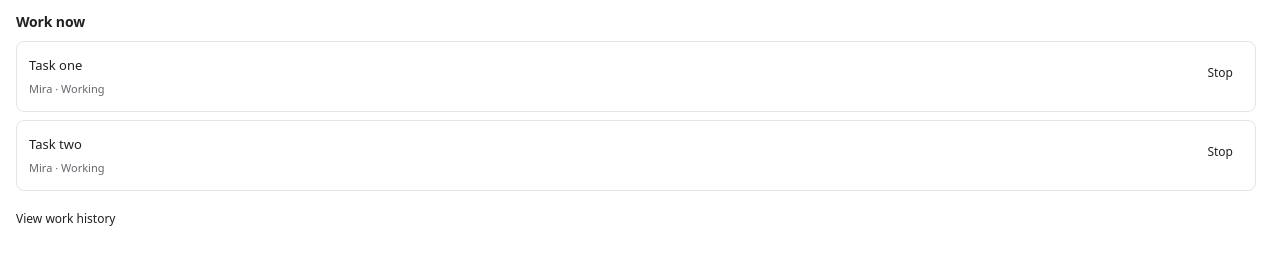
Scenario: bounded Activity summary › stops only the selected assignment and reports a rejected Stop
What coordinates should you click on to do the following:
click the 2nd button "Stop"
I would click on:
 (1220, 151)
Its box is [1197,135,1243,167].
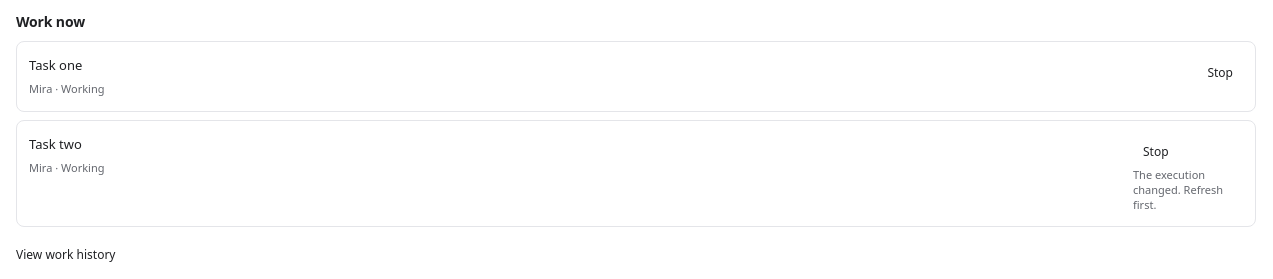
Expected: the number of buttons "Stop" is 2, [1197,56,1243,88]; [1133,135,1179,167]
Expected: the message shows "The execution changed", [1133,167,1223,212]
